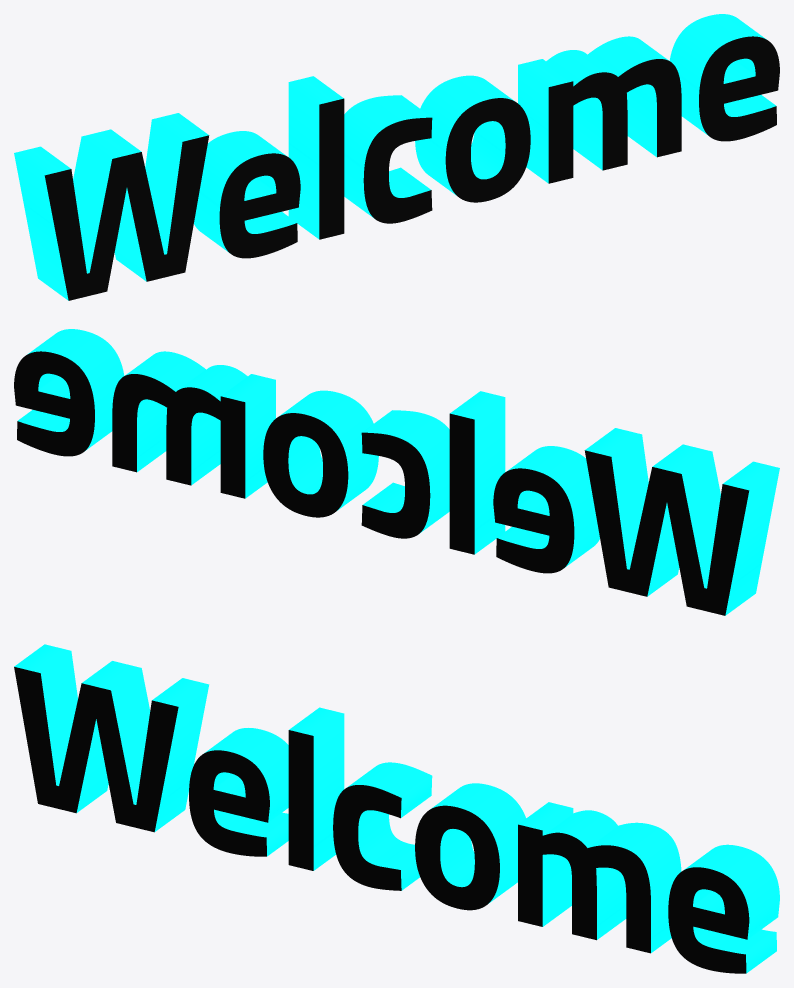
File: Welcome-text.fbx
3 views of the same model, one above another, from view 1: azimuth 30°, elevation 25°; view 2: azimuth 150°, elevation 25°; view 3: azimuth 330°, elevation 25° (orthographic).
Visible parts, largest first — view 1: Text.001; view 2: Text.001; view 3: Text.001.
Boxes of the visible parts, box(x1,y1,x2,y2) form: Text.001: box(14, 14, 779, 300); Text.001: box(14, 329, 779, 615); Text.001: box(14, 644, 779, 973).
Bounding box in the file's own units: 227 × 40.57 × 16.4.
2 materials, 1 textured.
